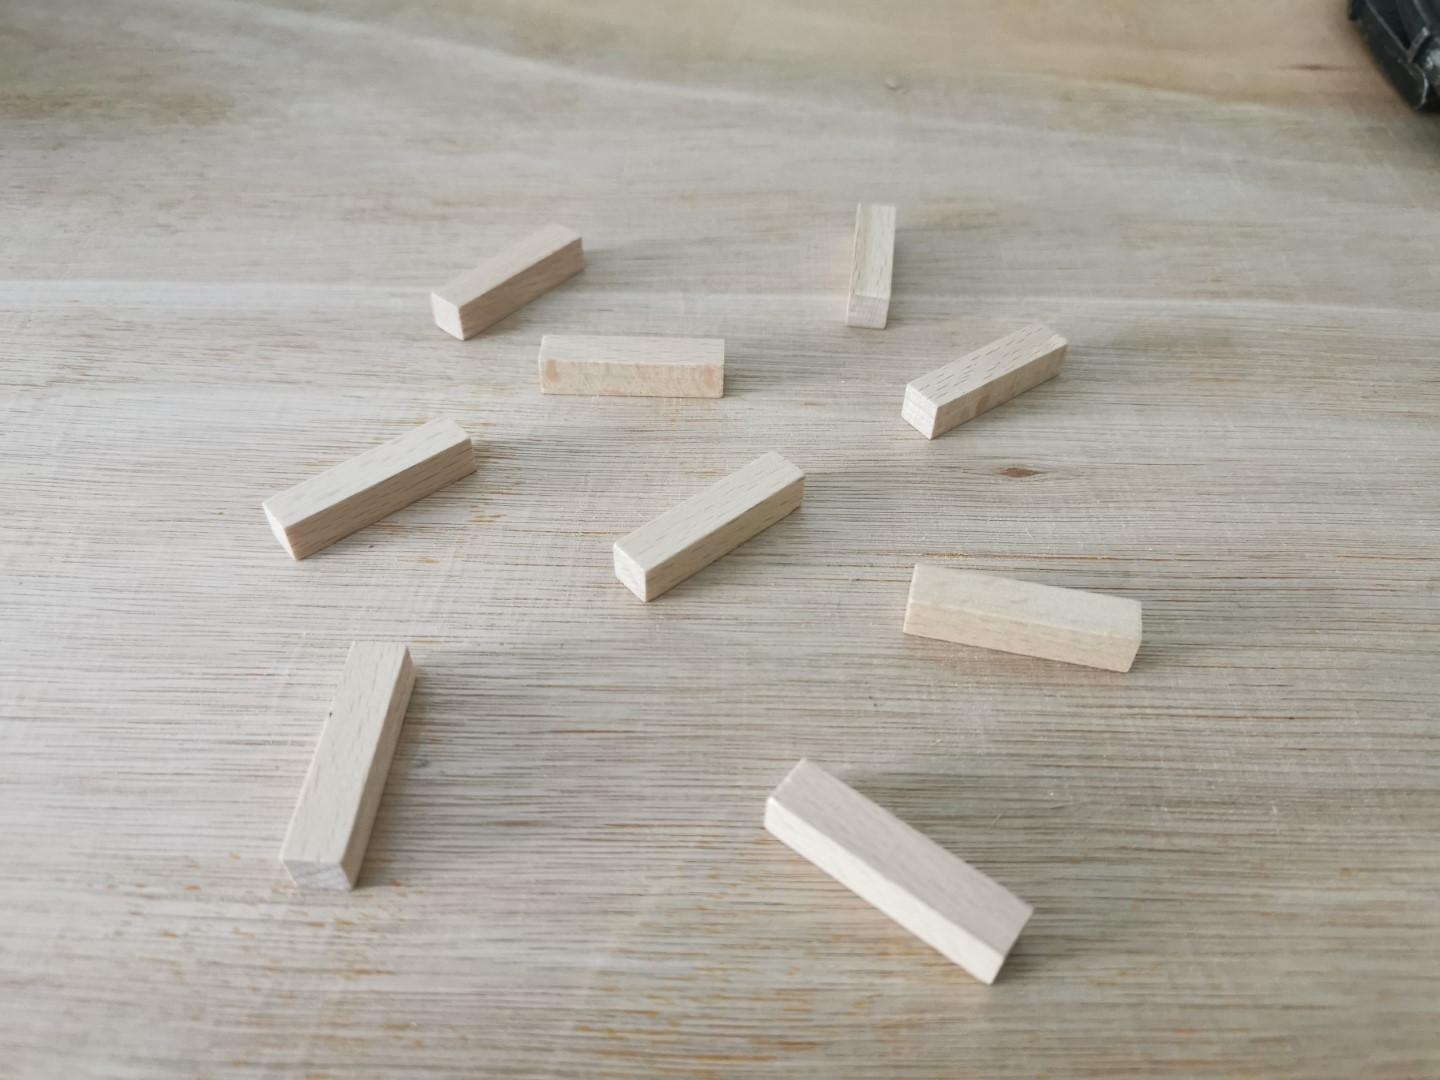jenga: (765, 760, 1034, 985), (279, 642, 415, 891), (262, 417, 476, 559), (613, 452, 805, 601), (905, 563, 1144, 672), (903, 322, 1069, 438), (431, 223, 584, 338), (537, 334, 725, 397), (847, 202, 897, 328)
